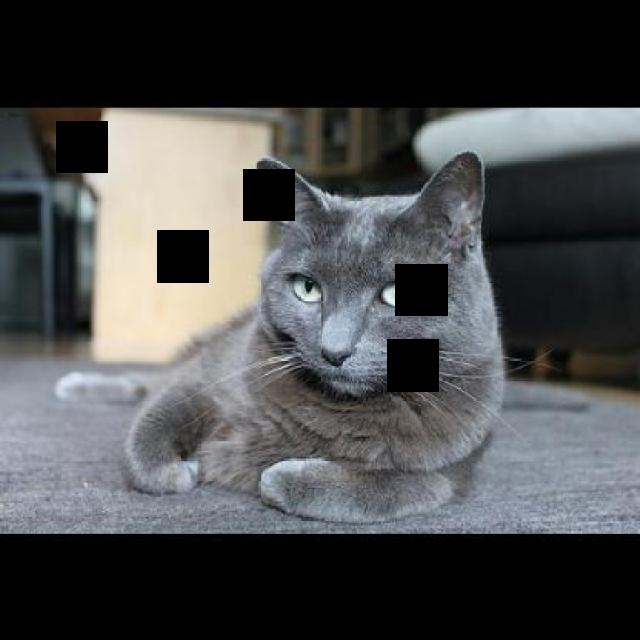unauthorized: (54, 149, 540, 525)
